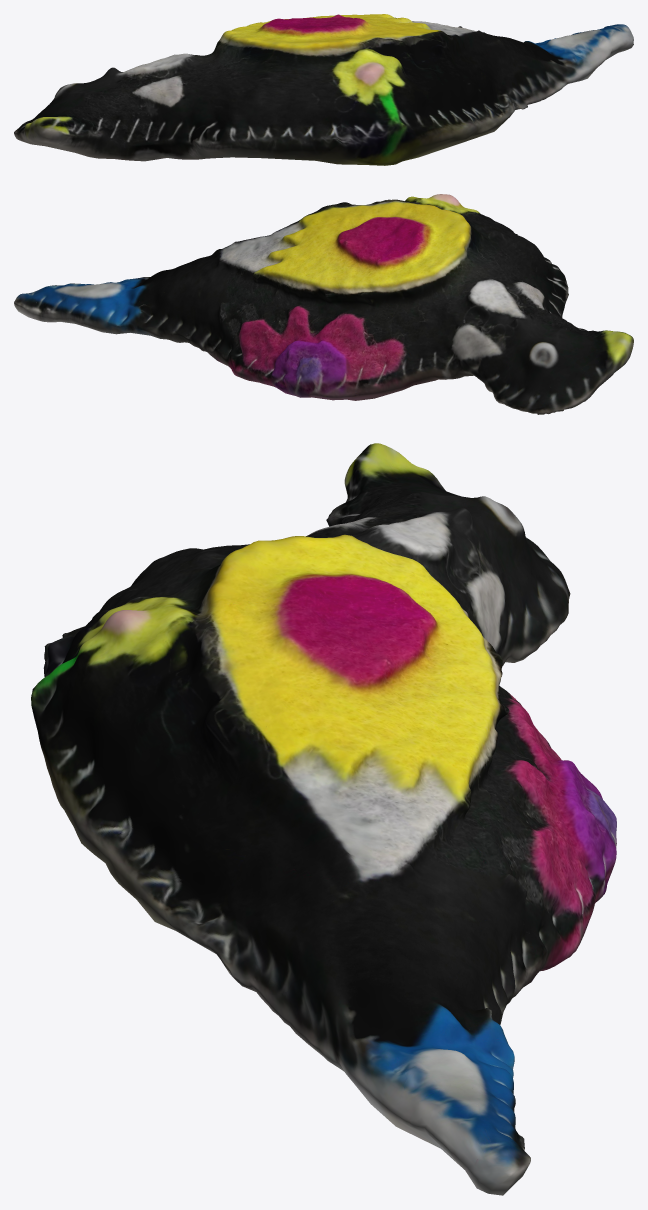
3 views of the same model, one above another, from view 1: azimuth 30°, elevation 25°; view 2: azimuth 150°, elevation 25°; view 3: azimuth 270°, elevation 25° (orthographic). The views are drawn at different scales.
Bounding box in the file's own units: 1.34 × 0.3089 × 0.5772.
Materials: 1 (1 with a texture image).
